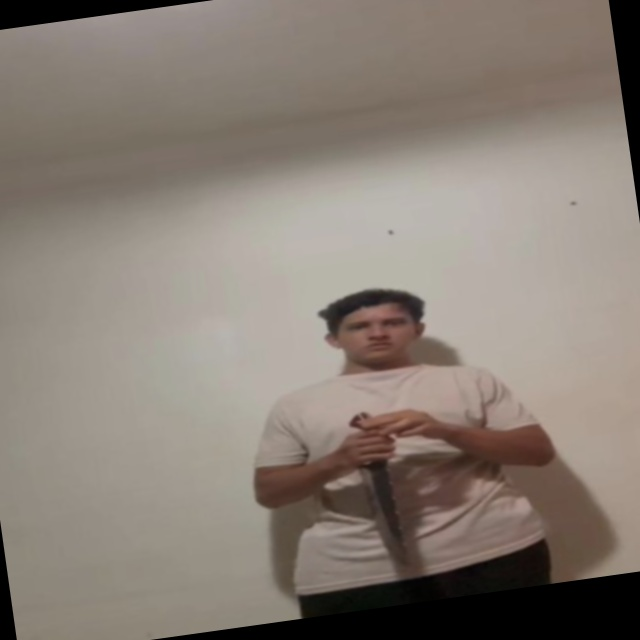Sharp-Object: (360, 461, 413, 568)
